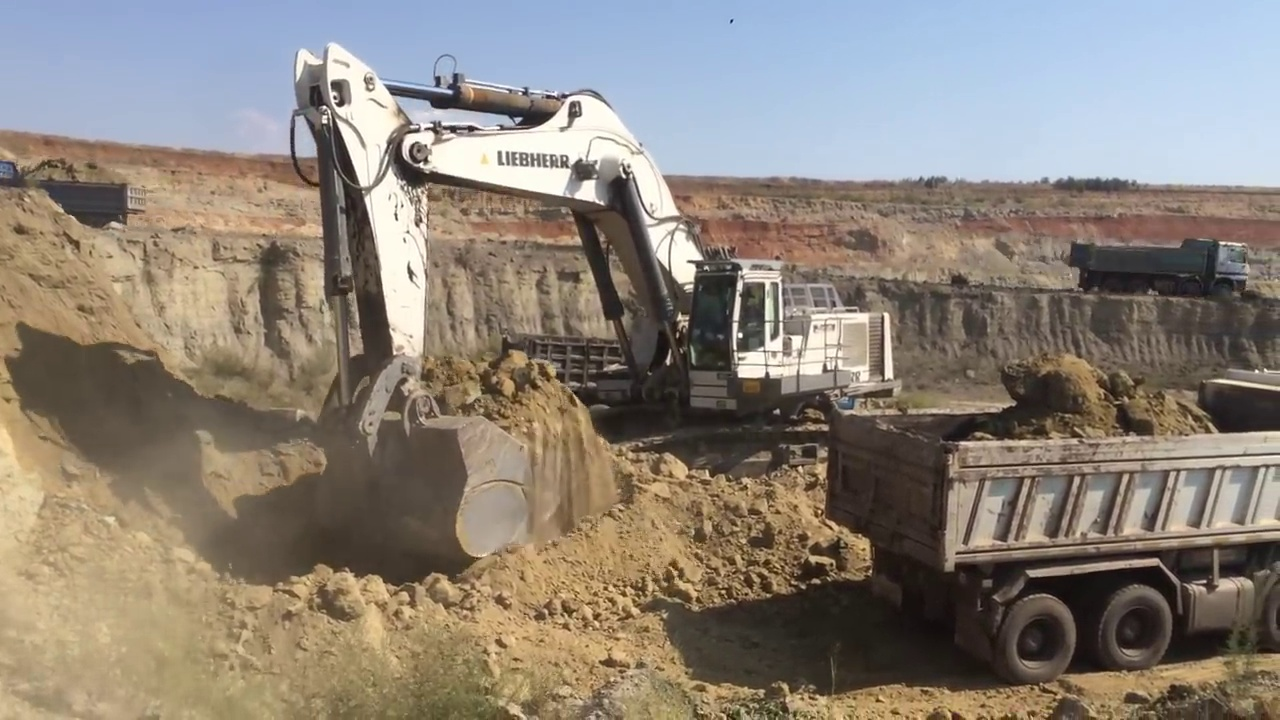excavator: (288, 40, 901, 576)
truck: (818, 370, 1280, 681), (1071, 235, 1251, 302), (1, 157, 149, 226)
